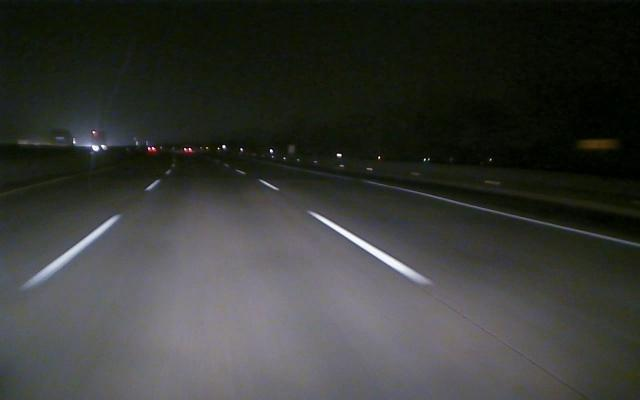lane: (363, 179, 637, 249), (259, 180, 436, 285), (12, 181, 159, 292)
